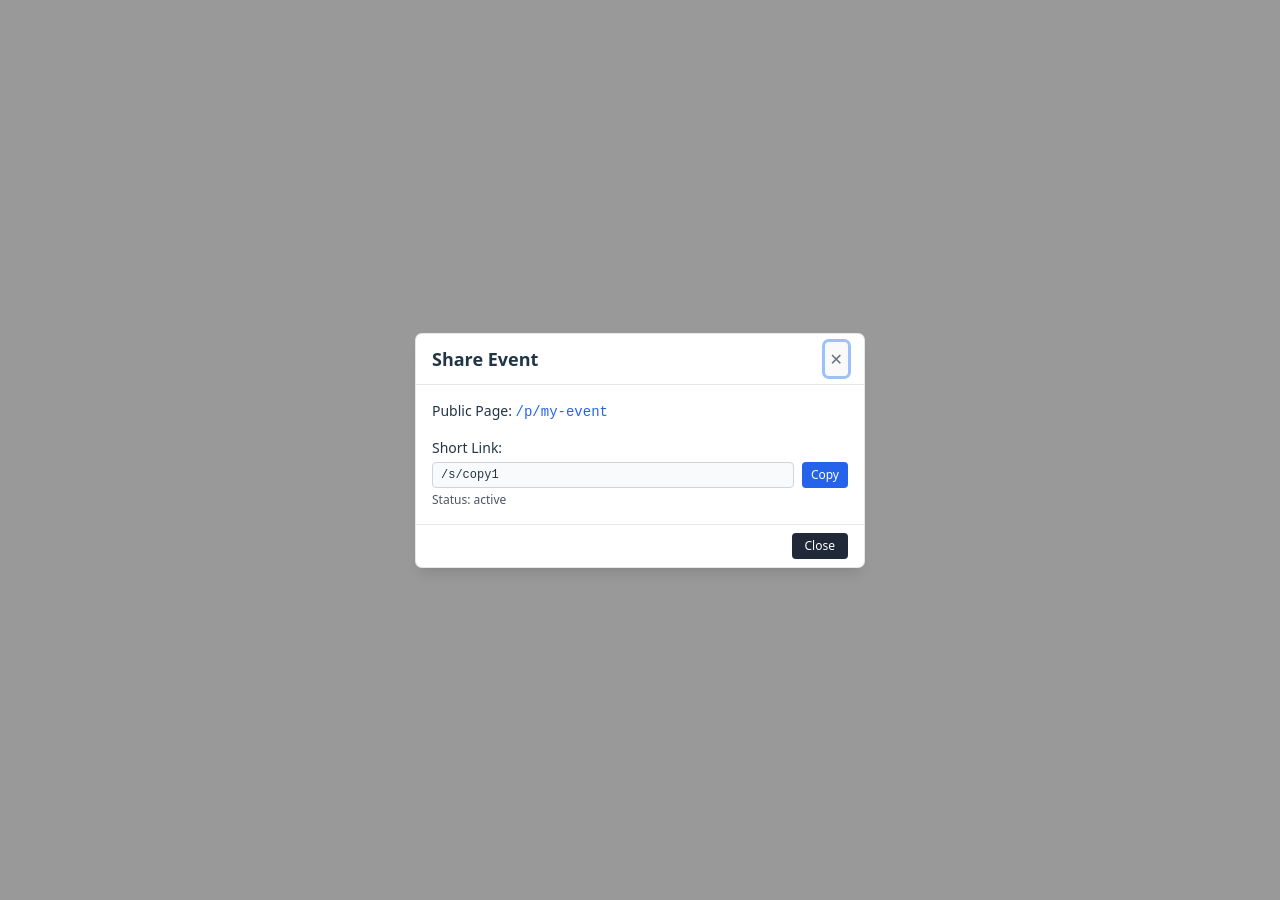
Test: ShareModal › copies short link to clipboard
The image size is (1280, 900).
Expected: the field showing "/s/copy1" is shown, [432,462,794,488]
Click the button "Copy" at [825, 474], box [802,462,848,488]
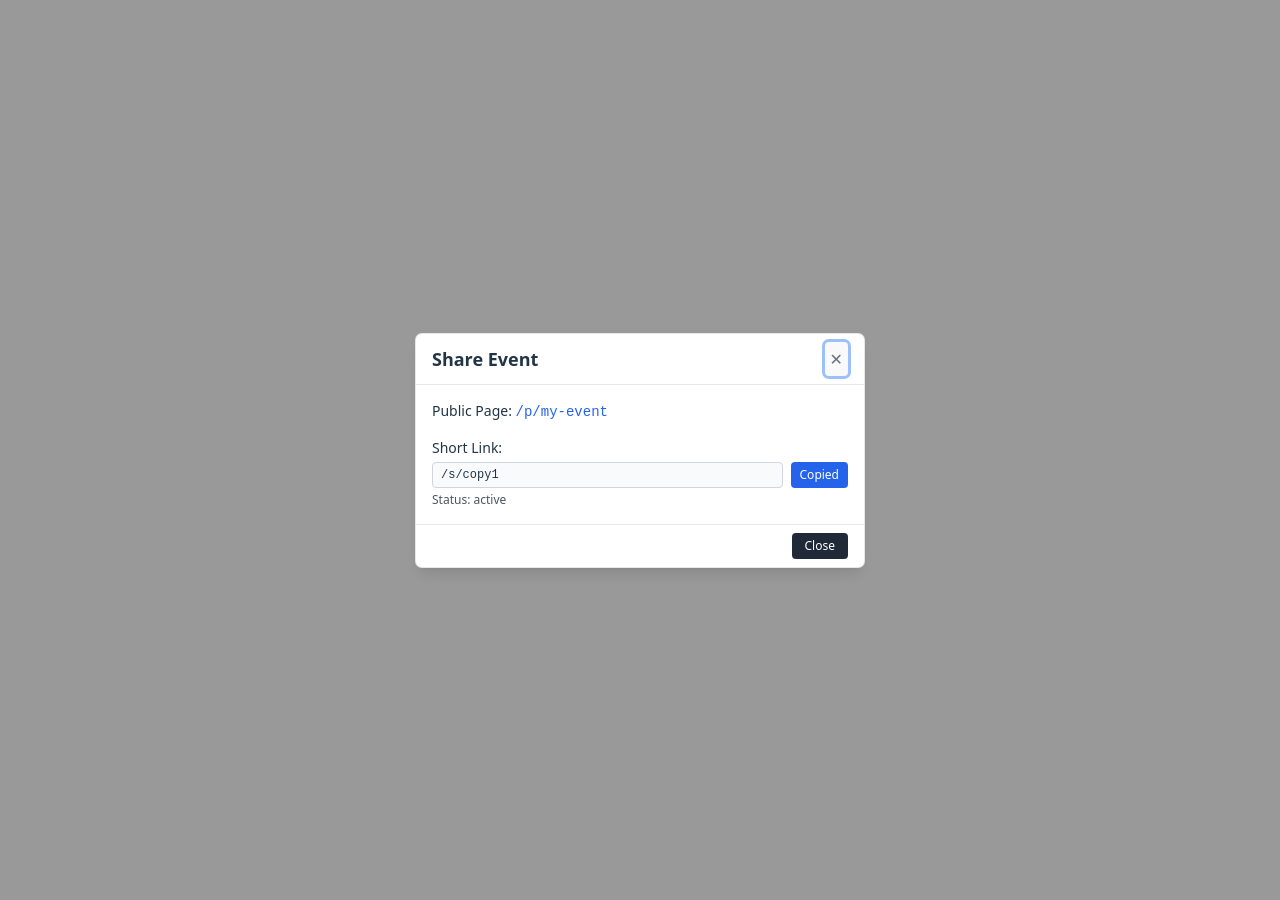
Result: the button named "copy" reads "Copied" at [790,462,848,488]
